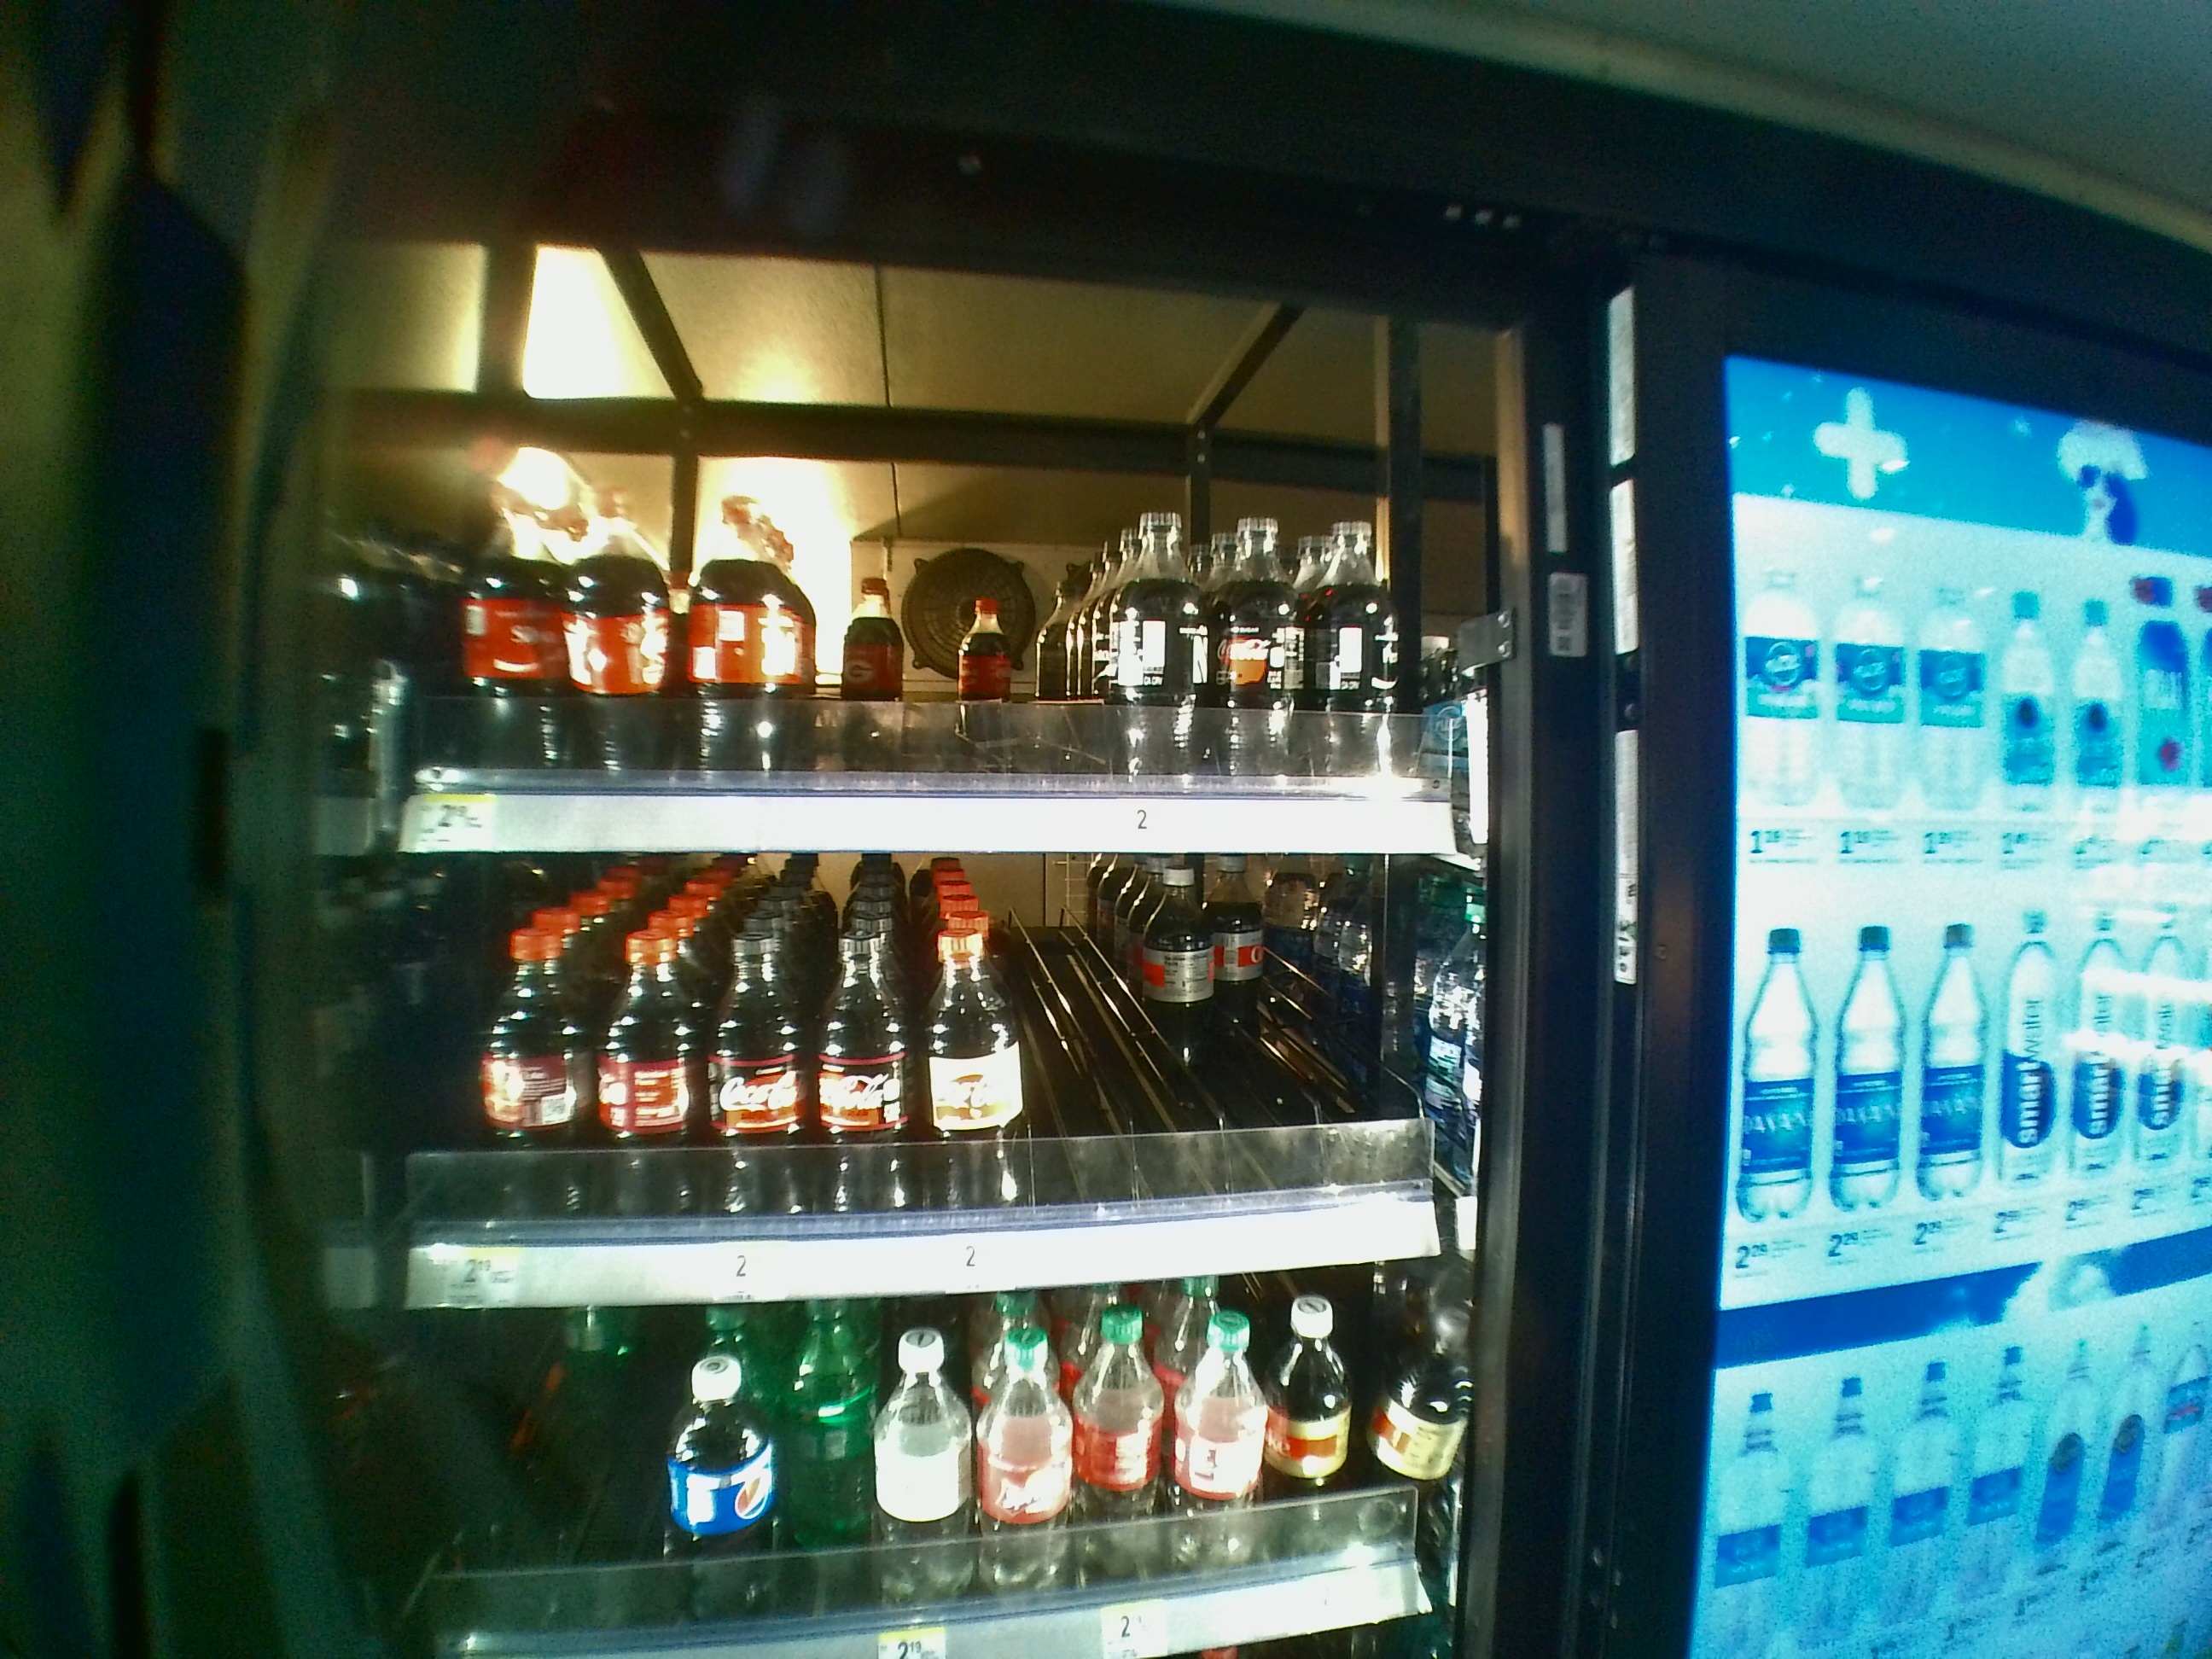shelf: (364, 216, 1521, 857), (361, 863, 1526, 1319)
